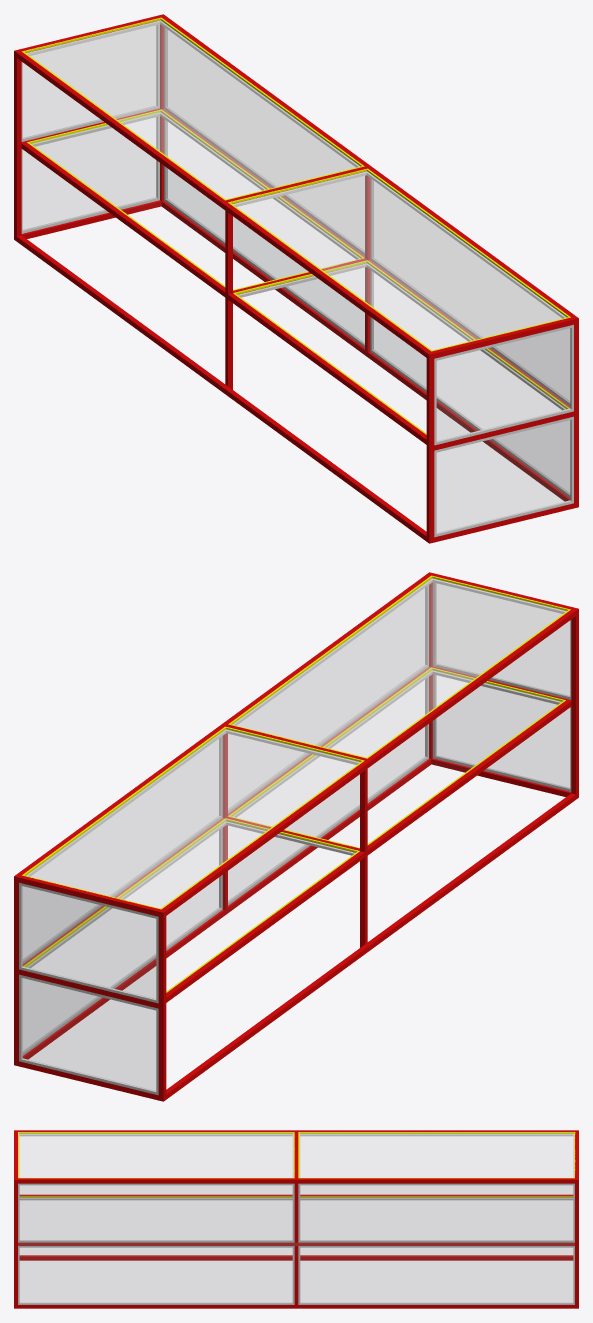
The model's file is vitrina.gltf.
3 renders of one model, top to bottom at view 1: azimuth 30°, elevation 25°; view 2: azimuth 150°, elevation 25°; view 3: azimuth 270°, elevation 25°, orthographic. The views are drawn at different scales.
Visible parts, largest first — view 1: Mesh_6.002, Mesh_7.002, Mesh_2.003, Mesh_4.002, Mesh_3.002, Mesh_8.002, Mesh_5.002, Mesh_0.004; view 2: Mesh_6.002, Mesh_7.002, Mesh_2.003, Mesh_4.002, Mesh_3.002, Mesh_8.002, Mesh_5.002, Mesh_0.004; view 3: Mesh_7.002, Mesh_6.002, Mesh_2.003, Mesh_4.002, Mesh_0.004, Mesh_8.002, Mesh_3.002, Mesh_5.002.
Part boxes in pixels (x1,y1,x2,y2): Mesh_6.002: (27,22,565,349); Mesh_7.002: (23,63,569,532); Mesh_2.003: (14,14,578,543); Mesh_4.002: (21,20,573,537); Mesh_3.002: (21,108,573,450); Mesh_8.002: (22,17,570,351); Mesh_5.002: (27,109,569,434); Mesh_0.004: (162,109,570,407); Mesh_6.002: (28,578,566,908); Mesh_7.002: (22,621,570,1090); Mesh_2.003: (14,572,578,1101); Mesh_4.002: (19,578,571,1095); Mesh_3.002: (19,666,571,1008); Mesh_8.002: (22,575,570,909); Mesh_5.002: (23,667,565,992); Mesh_0.004: (22,667,430,965); Mesh_7.002: (20,1185,572,1301); Mesh_6.002: (19,1134,573,1177); Mesh_2.003: (14,1130,578,1308); Mesh_4.002: (18,1133,574,1304); Mesh_0.004: (18,1242,574,1245); Mesh_8.002: (18,1132,575,1178); Mesh_3.002: (19,1194,573,1196); Mesh_5.002: (19,1196,573,1197).
Size of the model in its own units: 18.01 by 21.74 by 86.65.
